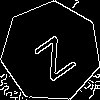Z: (26, 27, 77, 82)
